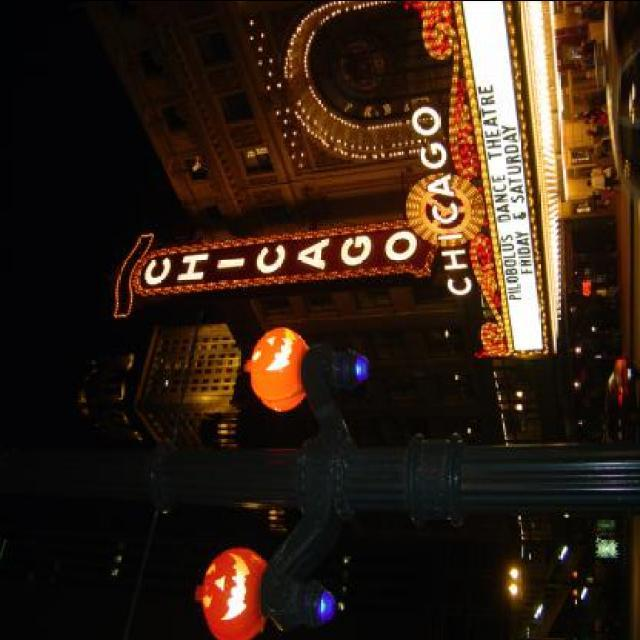Pumpkin: (193, 546, 270, 640), (243, 330, 303, 418)
